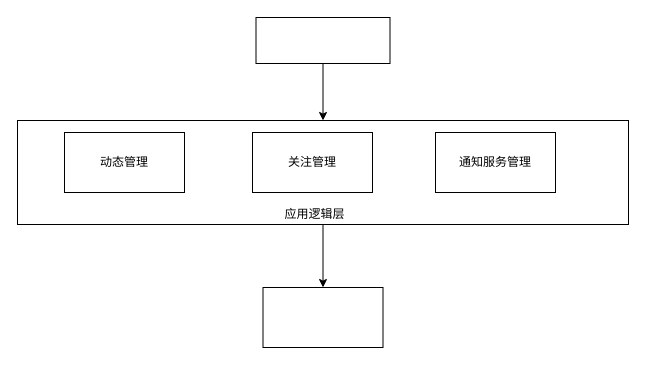
Image size: 646x365. Some labels were removed from this diagram. Here are the shapes that lost their labels. From the top down, the centre of each, then its label:
point 322,40: WWW页面层
point 322,317: 数据管理层
